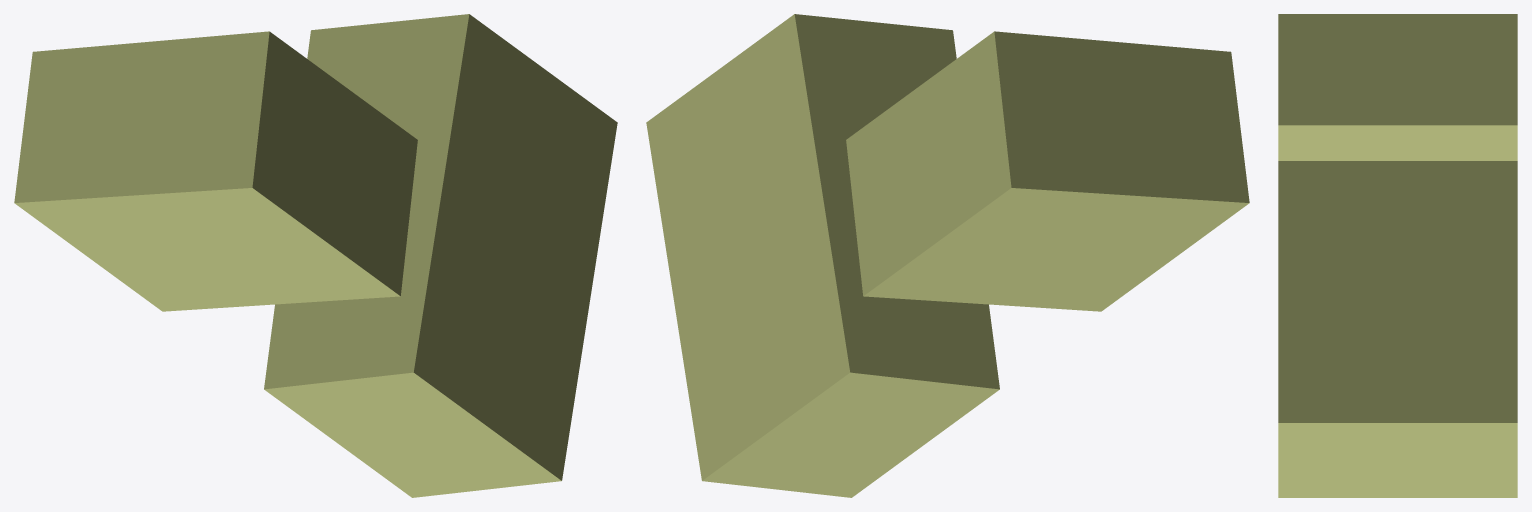
3 views of the same model, side by side, from view 1: azimuth 30°, elevation 25°; view 2: azimuth 150°, elevation 25°; view 3: azimuth 270°, elevation 25° (orthographic). The views are drawn at different scales.
Parts seen in each view (by area): view 1: 0_0_1_2_0_0_1_3_0_3; view 2: 0_0_1_2_0_0_1_3_0_3; view 3: 0_0_1_2_0_0_1_3_0_3.
Part boxes in pixels (x1=…): 0_0_1_2_0_0_1_3_0_3: x1=14, y1=14, x2=617, y2=497; 0_0_1_2_0_0_1_3_0_3: x1=646, y1=14, x2=1249, y2=497; 0_0_1_2_0_0_1_3_0_3: x1=1278, y1=14, x2=1517, y2=497.
Bounding box in the file's own units: 15.95 × 13.85 × 9.
